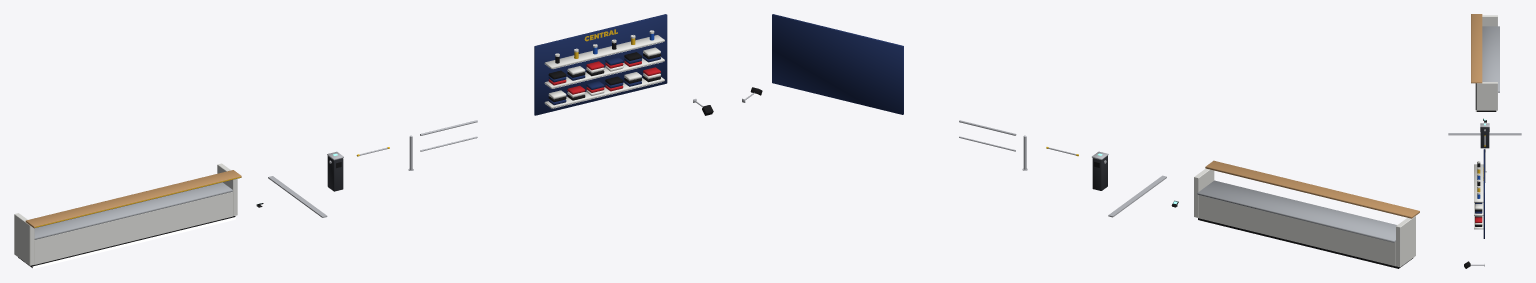
The model's file is Reception_01.glb.
3 views of the same model, side by side, from view 1: azimuth 30°, elevation 25°; view 2: azimuth 150°, elevation 25°; view 3: azimuth 270°, elevation 25° (orthographic). The views are drawn at different scales.
Visible parts, largest first — view 1: ReceptionDesk_Body, MerchWall_Back, ReceptionDesk_Work, ReceptionDesk_Ledge, MerchWall_Shelves, MerchWall_ShirtA, MerchWall_ShirtB, ReceptionDesk_Glow, MerchWall_ShirtD, MerchWall_ShirtC, Turnstile_Body; view 2: MerchWall_Back, ReceptionDesk_Body, ReceptionDesk_Work, ReceptionDesk_Ledge, ReceptionDesk_Plinth, Turnstile_Body; view 3: ReceptionDesk_Work, ReceptionDesk_Ledge, ReceptionDesk_Body, MerchWall_Shelves, Turnstile_Body, LightStrip_Housing, MerchWall_Back, ReceptionDesk_Plinth, MerchWall_ShirtB, MerchWall_ShirtA, MerchWall_Lids.
Boxes of the visible parts, <box> form: ReceptionDesk_Body: <box>14,163,237,265</box>; MerchWall_Back: <box>534,14,667,115</box>; ReceptionDesk_Work: <box>34,182,232,239</box>; ReceptionDesk_Ledge: <box>25,170,241,228</box>; MerchWall_Shelves: <box>544,35,664,108</box>; MerchWall_ShirtA: <box>548,52,660,102</box>; MerchWall_ShirtB: <box>548,47,660,99</box>; ReceptionDesk_Glow: <box>32,217,235,268</box>; MerchWall_ShirtD: <box>548,56,660,105</box>; MerchWall_ShirtC: <box>548,61,660,94</box>; Turnstile_Body: <box>327,156,343,191</box>; MerchWall_Back: <box>772,14,903,114</box>; ReceptionDesk_Body: <box>1194,168,1415,267</box>; ReceptionDesk_Work: <box>1197,180,1396,242</box>; ReceptionDesk_Ledge: <box>1205,160,1419,218</box>; ReceptionDesk_Plinth: <box>1198,218,1412,268</box>; Turnstile_Body: <box>1092,156,1107,190</box>; ReceptionDesk_Work: <box>1482,26,1499,92</box>; ReceptionDesk_Ledge: <box>1471,14,1482,83</box>; ReceptionDesk_Body: <box>1476,15,1497,110</box>; MerchWall_Shelves: <box>1474,164,1483,229</box>; Turnstile_Body: <box>1480,127,1489,148</box>; LightStrip_Housing: <box>1448,133,1521,135</box>; MerchWall_Back: <box>1483,149,1484,238</box>; ReceptionDesk_Plinth: <box>1475,83,1496,111</box>; MerchWall_ShirtB: <box>1475,204,1482,224</box>; MerchWall_ShirtA: <box>1475,202,1482,226</box>; MerchWall_Lids: <box>1477,161,1480,194</box>.
Size of the model in its own units: 71.4 by 9.91 by 10.
